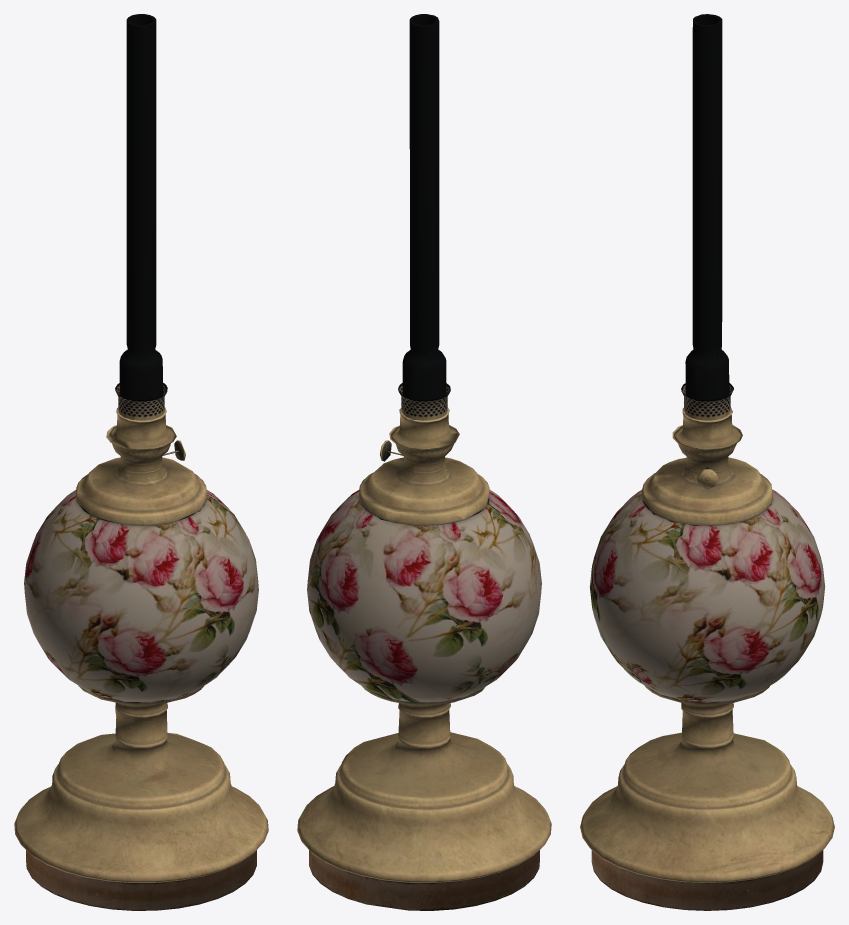
The model's file is vintage_oil_lamp.glb.
3 views of the same model, side by side, from view 1: azimuth 30°, elevation 25°; view 2: azimuth 150°, elevation 25°; view 3: azimuth 270°, elevation 25° (orthographic).
Visible parts, largest first — view 1: vintage_oil_lamp, vintage_oil_lamp_glass; view 2: vintage_oil_lamp, vintage_oil_lamp_glass; view 3: vintage_oil_lamp, vintage_oil_lamp_glass.
Part boxes in pixels (x1,y1,x2,y2): vintage_oil_lamp: (14, 407, 268, 910); vintage_oil_lamp_glass: (115, 14, 167, 420); vintage_oil_lamp: (297, 407, 551, 910); vintage_oil_lamp_glass: (398, 14, 450, 420); vintage_oil_lamp: (580, 407, 834, 910); vintage_oil_lamp_glass: (681, 14, 733, 420).
Bounding box in the file's own units: 0.22 × 0.8016 × 0.22.
3 materials, 3 textured.
